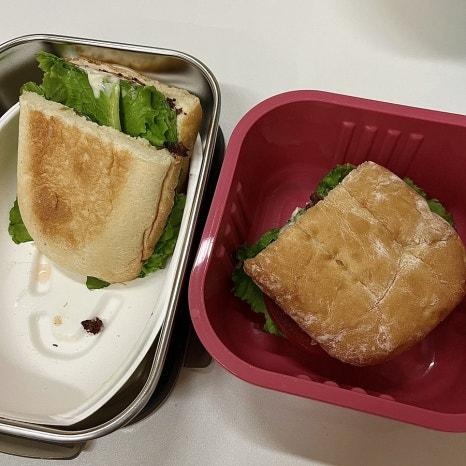Lunch Box: (0, 35, 224, 458), (189, 91, 465, 431)
